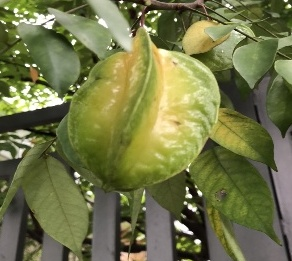Khe: (58, 25, 222, 195)
